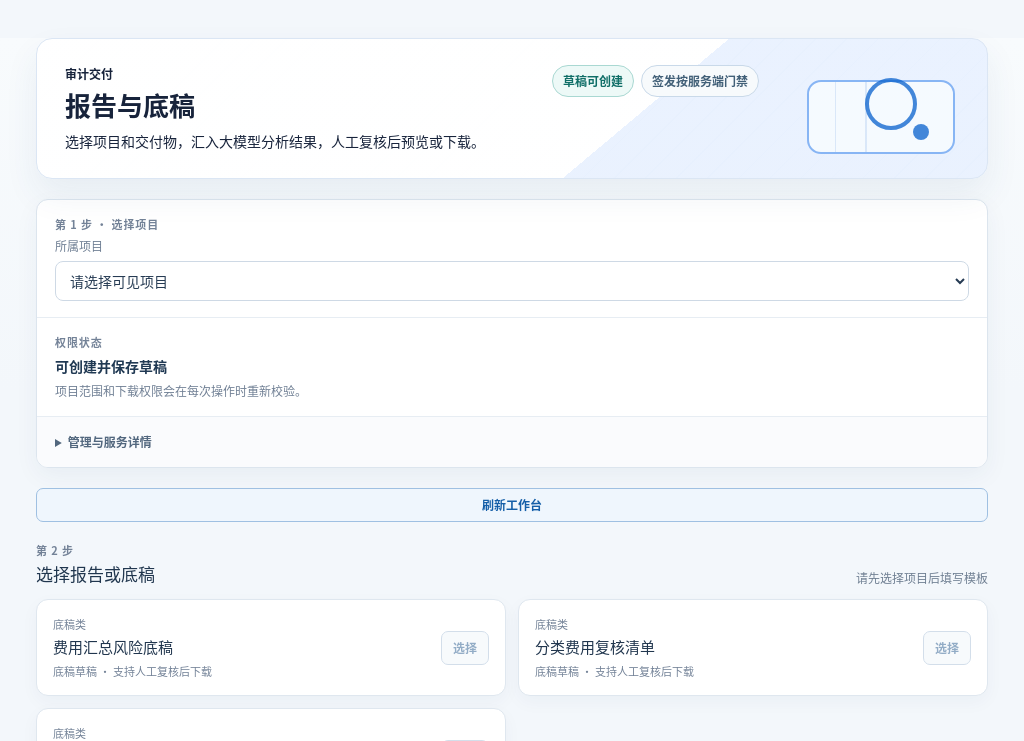
it: ReplicaReportWorkbench › locks project, template and form controls until the POST settles
Select "Alpha 医保专项" in the dropdown labelled "所属项目" at (512, 281), box [55, 261, 969, 301]
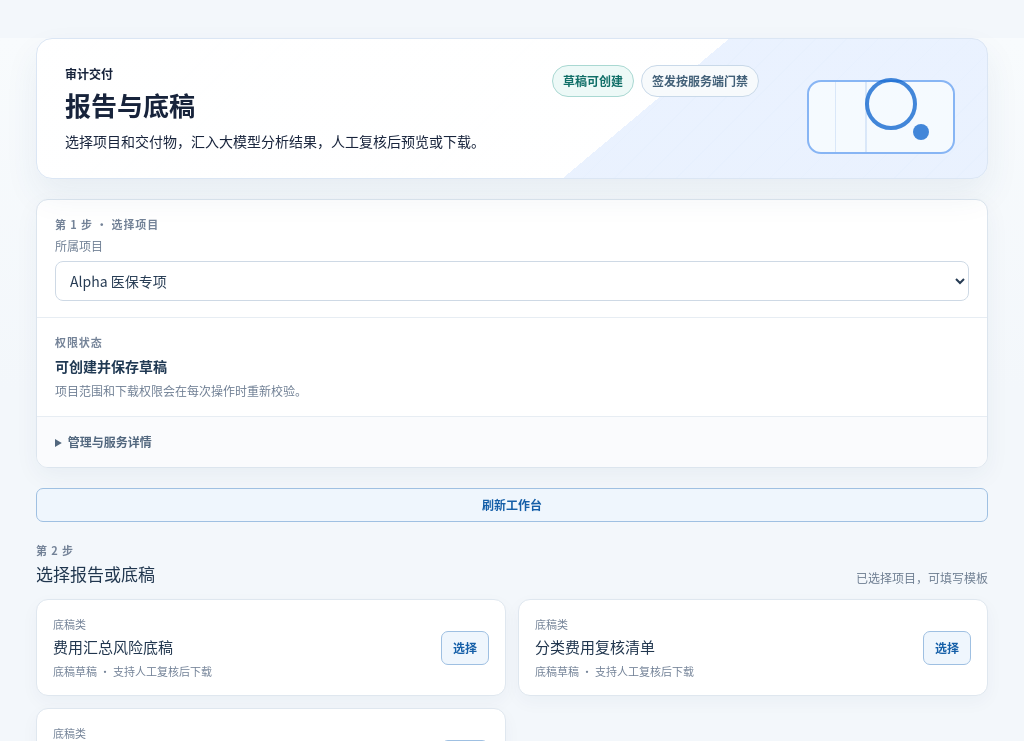
Expected: the button with aria-label "填写模板：费用汇总风险底稿" is enabled
Click the button with aria-label "填写模板：费用汇总风险底稿" at (465, 648), box [441, 631, 489, 665]
(page scrolled)
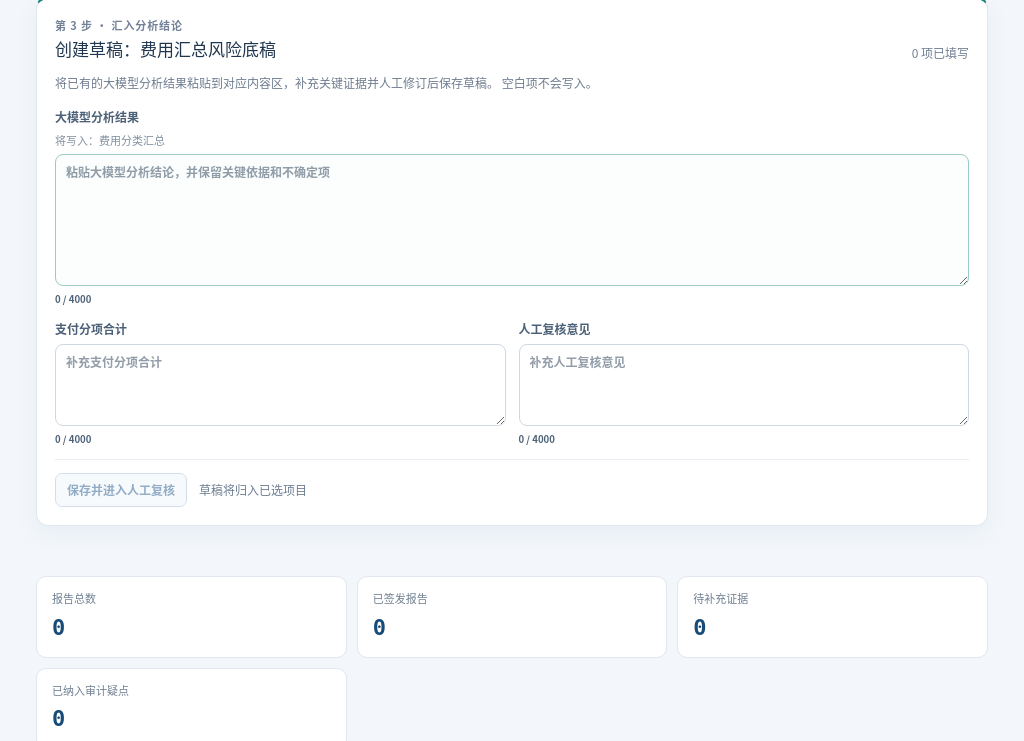
Type "待复核" into the text box labelled "人工复核意见" at (744, 385), box [518, 344, 969, 426]
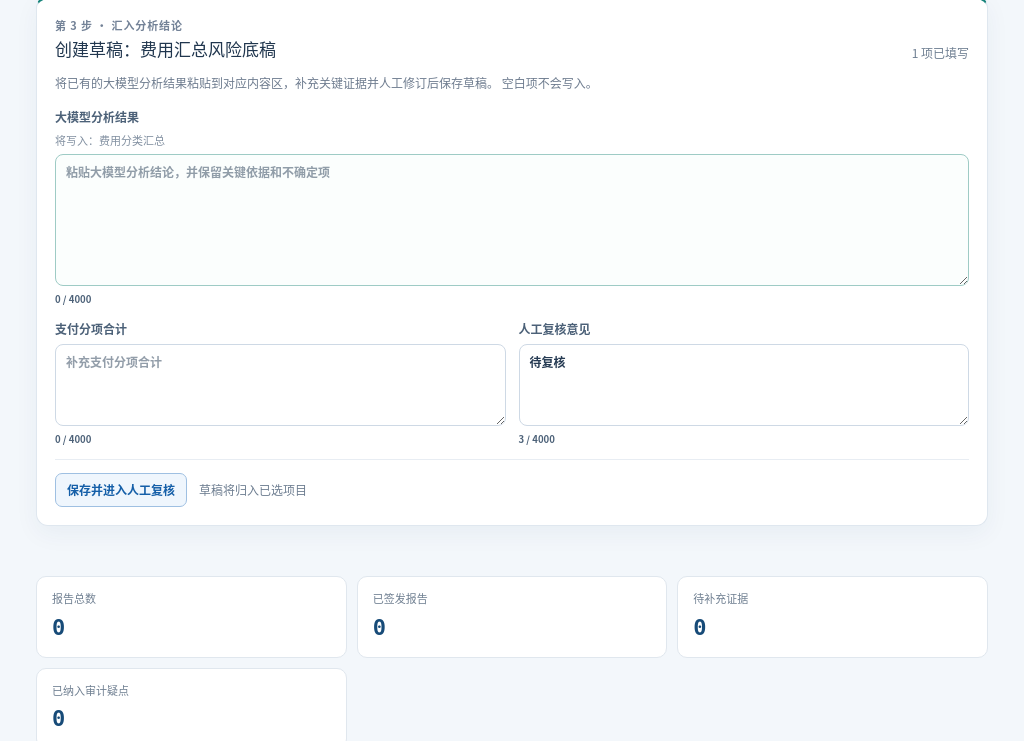
Submit the form named "费用汇总风险底稿草稿", box [55, 108, 969, 507]
(page scrolled)
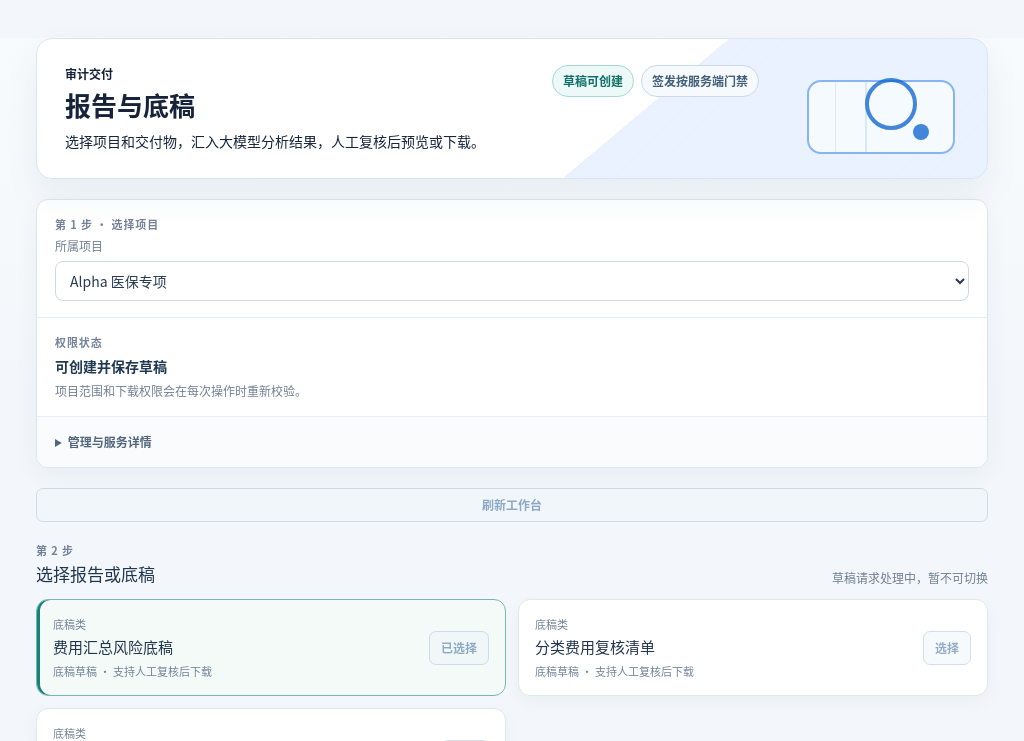
Expected: the dropdown labelled "所属项目" is disabled
Expected: the button "刷新工作台" is disabled, [36, 488, 988, 522]
Expected: the button with aria-label "填写模板：" is disabled, [429, 631, 489, 665]
Select "Beta 收费专项" in the dropdown labelled "所属项目" at (512, 281), box [55, 261, 969, 301]
Click the button with aria-label "填写模板：分类费用复核清单" at (947, 648), box [923, 631, 971, 665]
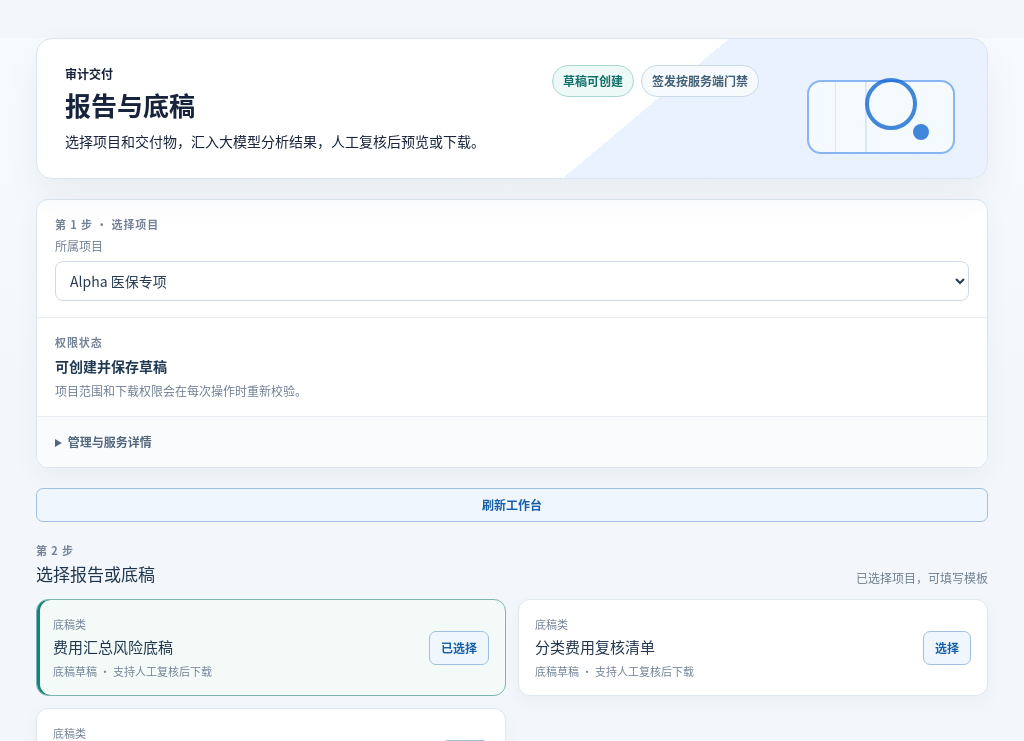
Expected: the dropdown labelled "所属项目" is enabled, [55, 261, 969, 301]
Expected: the button "刷新工作台" is enabled, [36, 488, 988, 522]
